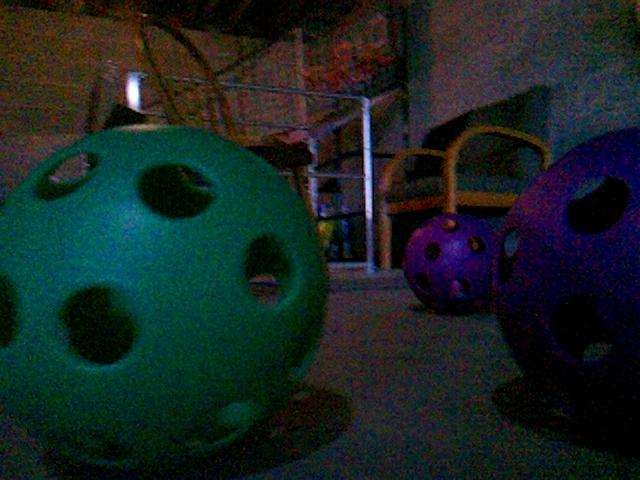Green: (0, 124, 327, 474)
Purple: (492, 127, 639, 418), (402, 213, 502, 313)
